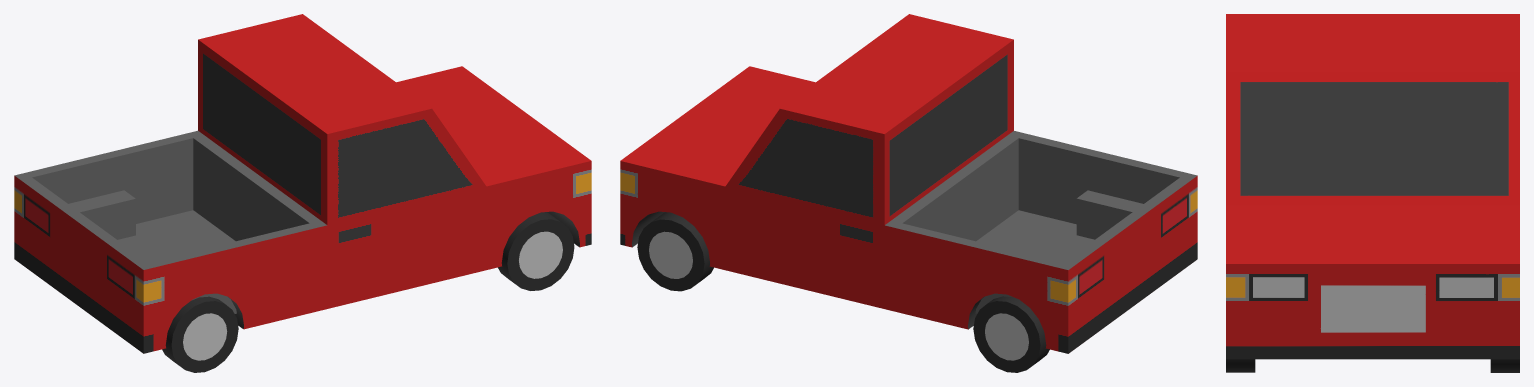
The model's file is TruckRace.FBX.
3 renders of one model, left to right at view 1: azimuth 30°, elevation 25°; view 2: azimuth 150°, elevation 25°; view 3: azimuth 270°, elevation 25°, orthographic. The views are drawn at different scales.
Visible parts, largest first — view 1: Box002, Object004, Object001; view 2: Box002, Object003, Object002; view 3: Box002, Object003, Object004.
Part boxes in pixels (<box>): Box002: <box>14,14,591,353</box>; Object004: <box>498,212,574,290</box>; Object001: <box>162,296,238,372</box>; Box002: <box>620,14,1197,353</box>; Object003: <box>637,212,713,291</box>; Object002: <box>973,296,1049,372</box>; Box002: <box>1226,14,1519,359</box>; Object003: <box>1490,359,1519,372</box>; Object004: <box>1226,359,1255,372</box>.
Bounding box in the file's own units: 40 × 17.79 × 20.
